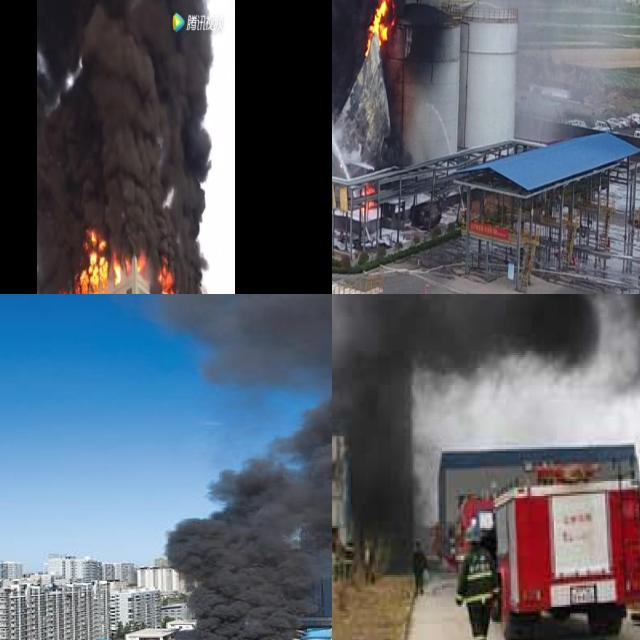fire: (70, 230, 136, 294), (365, 0, 393, 55), (156, 258, 173, 294), (362, 181, 376, 210)
smoke: (332, 294, 640, 523), (148, 294, 332, 640), (35, 0, 216, 294), (332, 0, 568, 76)
